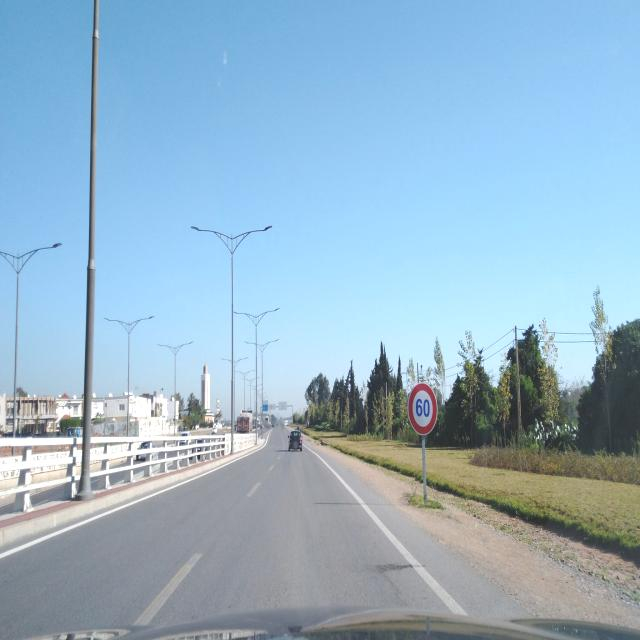car: (287, 426, 303, 452)
